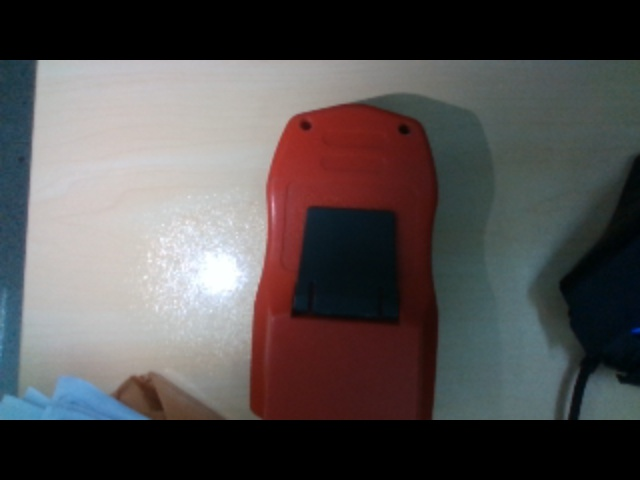Multimeter: (248, 100, 438, 421)
Screw holes: (396, 124, 412, 137), (296, 120, 312, 131)
